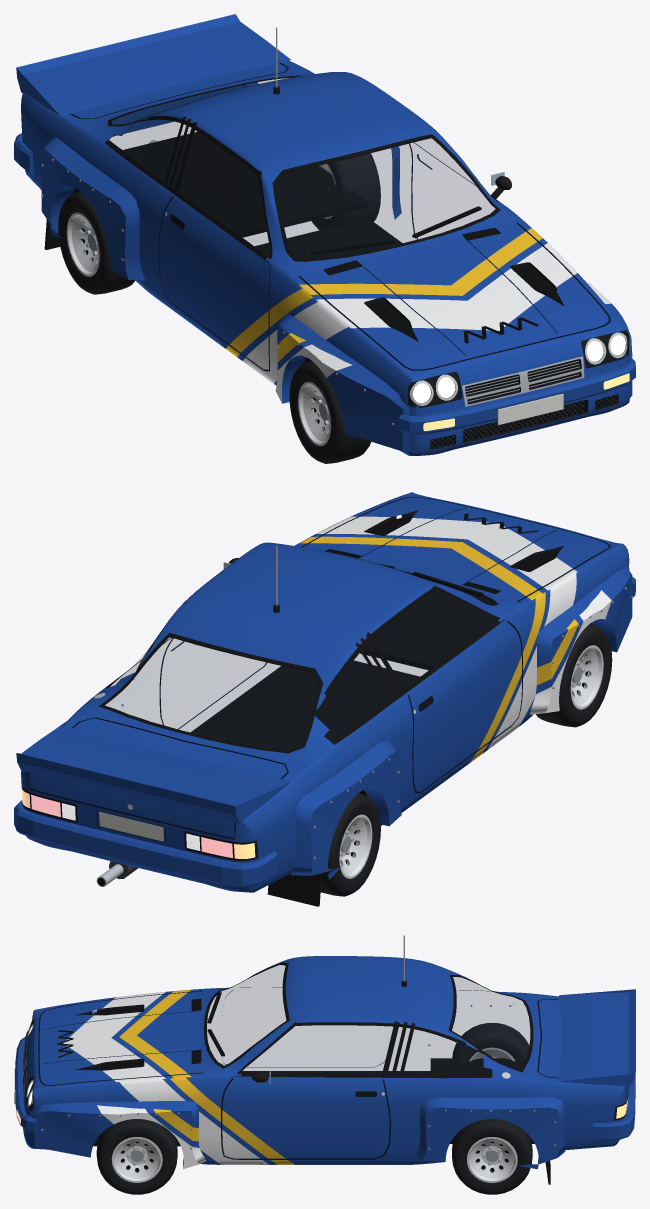
The model's file is car_rally_blue.glb.
3 renders of one model, top to bottom at view 1: azimuth 30°, elevation 25°; view 2: azimuth 150°, elevation 25°; view 3: azimuth 270°, elevation 25°, orthographic. The views are drawn at different scales.
Visible parts, largest first — view 1: body, wheel_fl, wheel_rl, wheel_rr; view 2: body, wheel_fl, wheel_rl; view 3: body, wheel_fr, wheel_rr, wheel_rl.
Boxes of the visible parts, <box> form: body: <box>14,14,635,455</box>; wheel_fl: <box>289,360,370,463</box>; wheel_rl: <box>58,191,135,294</box>; wheel_rr: <box>311,153,380,230</box>; body: <box>14,492,635,906</box>; wheel_fl: <box>536,624,612,727</box>; wheel_rl: <box>320,793,380,896</box>; body: <box>14,935,635,1184</box>; wheel_fr: <box>96,1119,177,1194</box>; wheel_rr: <box>452,1119,532,1194</box>; wheel_rl: <box>452,1023,529,1061</box>.
Size of the model in its own units: 1.77 by 1.65 by 4.42.
